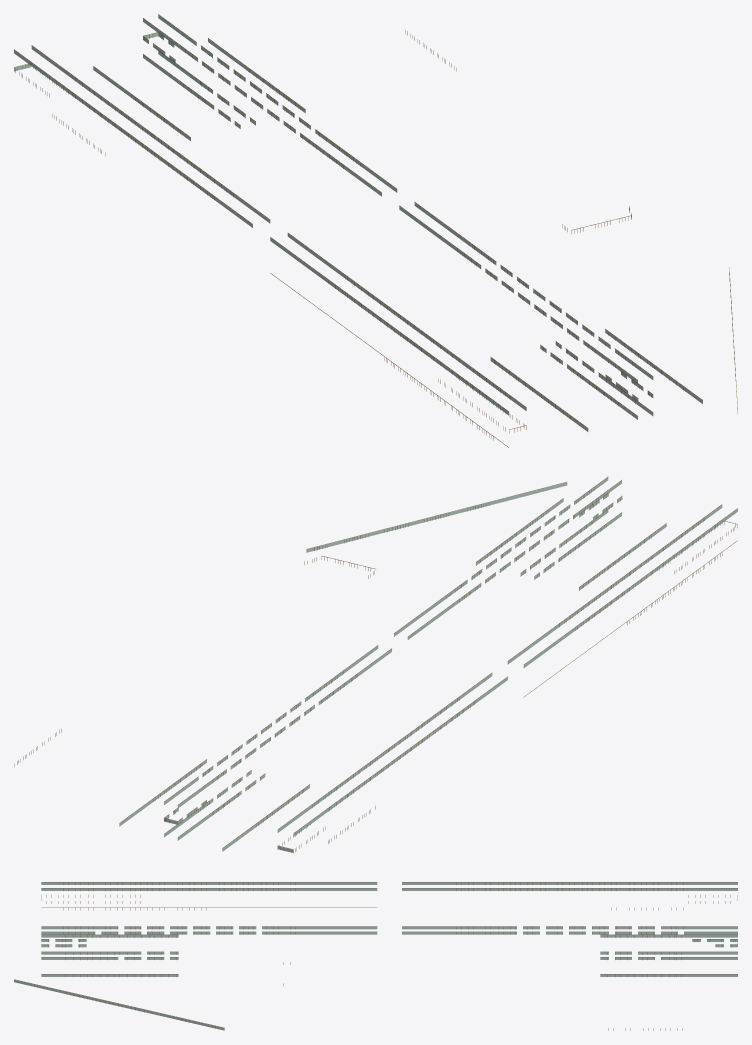
Rendered from Family47Receiving_r003.glb.
The picture shows the model from 3 angles, top to bottom: view 1: azimuth 30°, elevation 25°; view 2: azimuth 150°, elevation 25°; view 3: azimuth 270°, elevation 25°; orthographic projection. The views are drawn at different scales.
Parts seen in each view (by area): view 1: FT_Batch_331, FT_Batch_325, FT_Batch_291, FT_Batch_303, FT_Batch_320, FT_Batch_327, FT_Batch_299, FT_Batch_289; view 2: FT_Batch_331, FT_Batch_325, FT_Batch_303, FT_Batch_291, FT_Batch_320, FT_Batch_327, FT_Batch_299, FT_Batch_289; view 3: FT_Batch_331, FT_Batch_325, FT_Batch_303, FT_Batch_291, FT_Batch_320, FT_Batch_327, FT_Batch_299, FT_Batch_289, FT_Batch_297.
Boxes of the visible parts, bbox=[...] form: FT_Batch_331: bbox=[270, 202, 653, 415]; FT_Batch_325: bbox=[14, 15, 397, 227]; FT_Batch_291: bbox=[93, 38, 305, 141]; FT_Batch_303: bbox=[490, 329, 737, 431]; FT_Batch_320: bbox=[14, 14, 396, 224]; FT_Batch_327: bbox=[270, 201, 653, 411]; FT_Batch_299: bbox=[438, 267, 737, 440]; FT_Batch_289: bbox=[52, 30, 456, 156]; FT_Batch_331: bbox=[394, 477, 737, 667]; FT_Batch_325: bbox=[164, 645, 507, 836]; FT_Batch_303: bbox=[306, 482, 666, 590]; FT_Batch_291: bbox=[119, 759, 309, 851]; FT_Batch_320: bbox=[164, 645, 507, 833]; FT_Batch_327: bbox=[394, 476, 737, 664]; FT_Batch_299: bbox=[306, 482, 722, 590]; FT_Batch_289: bbox=[14, 729, 375, 848]; FT_Batch_331: bbox=[41, 882, 377, 934]; FT_Batch_325: bbox=[402, 882, 737, 934]; FT_Batch_303: bbox=[14, 935, 224, 1030]; FT_Batch_291: bbox=[600, 935, 737, 976]; FT_Batch_320: bbox=[402, 882, 737, 934]; FT_Batch_327: bbox=[41, 882, 376, 934]; FT_Batch_299: bbox=[14, 908, 224, 1027]; FT_Batch_289: bbox=[600, 907, 737, 1030]; FT_Batch_297: bbox=[41, 907, 376, 1028].
Size of the model in its own units: 91.75 by 10.14 by 233.
Materials: 3 (2 with a texture image).
